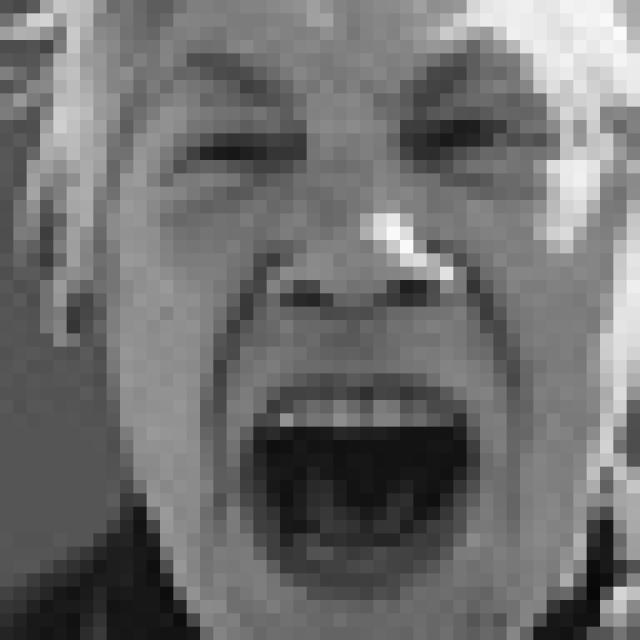angry: (148, 24, 592, 590)
